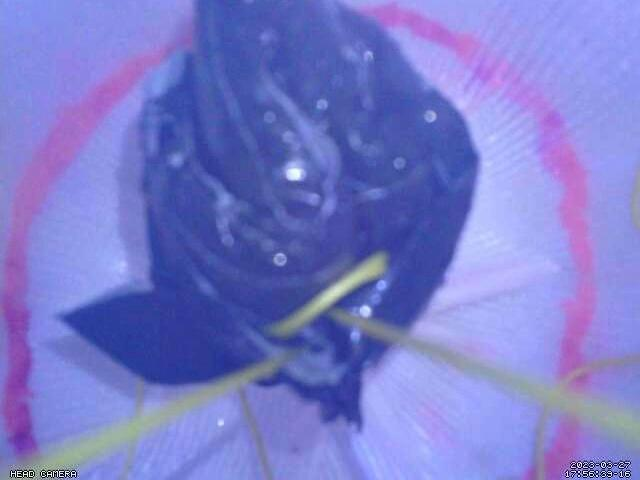head: (1, 0, 598, 480)
